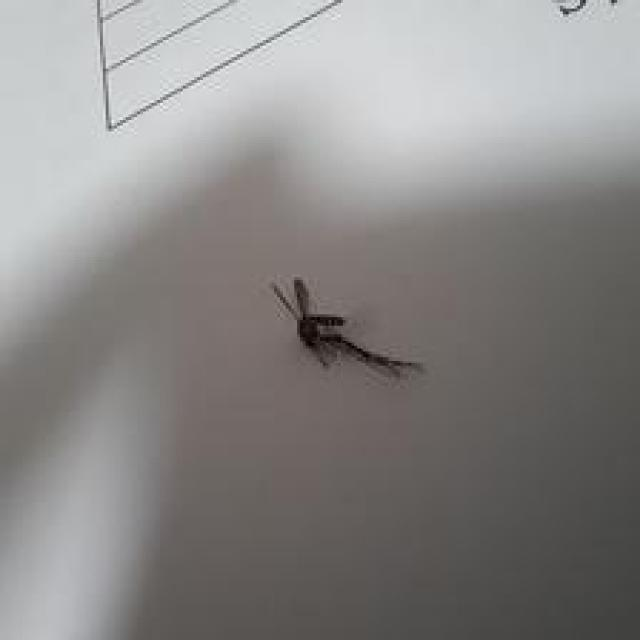Aedes albopictus: (268, 274, 426, 383)
